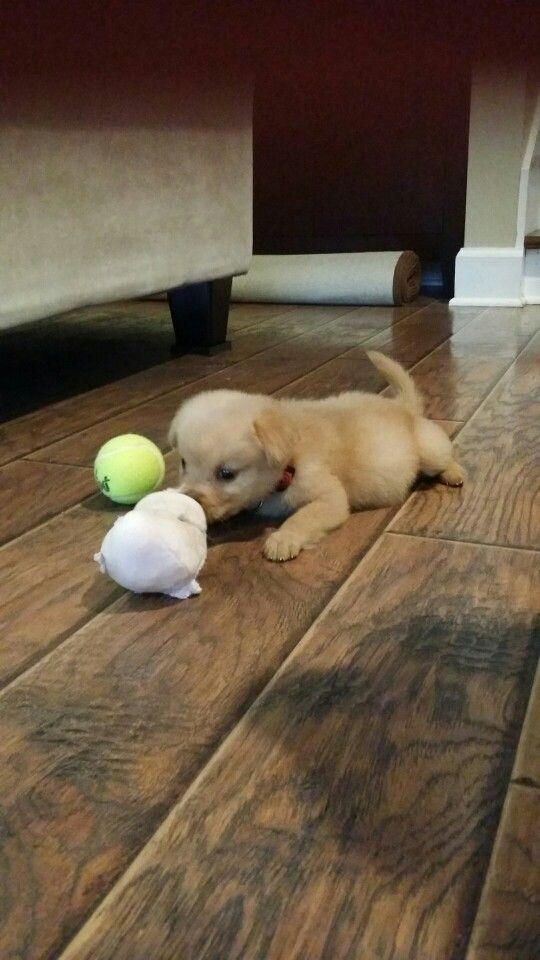puppy-dog: (164, 345, 469, 566)
